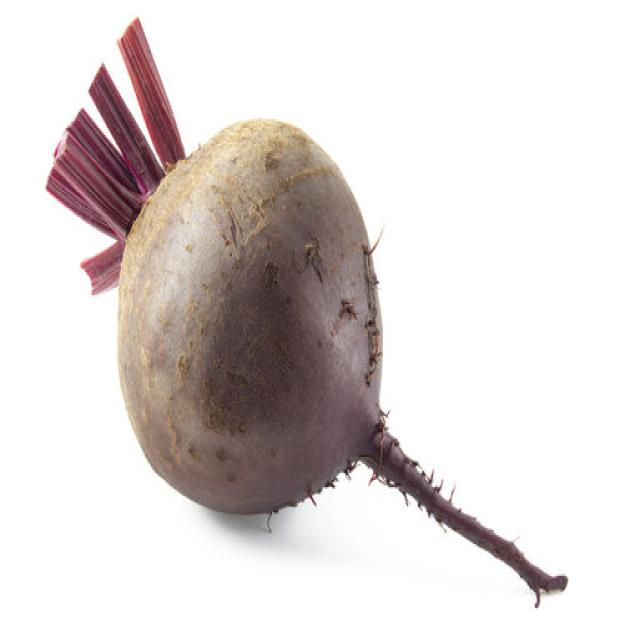Beetroot: (45, 14, 568, 608)
